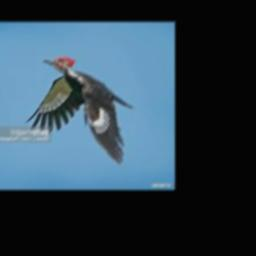Woodpecker: (25, 57, 134, 165)
